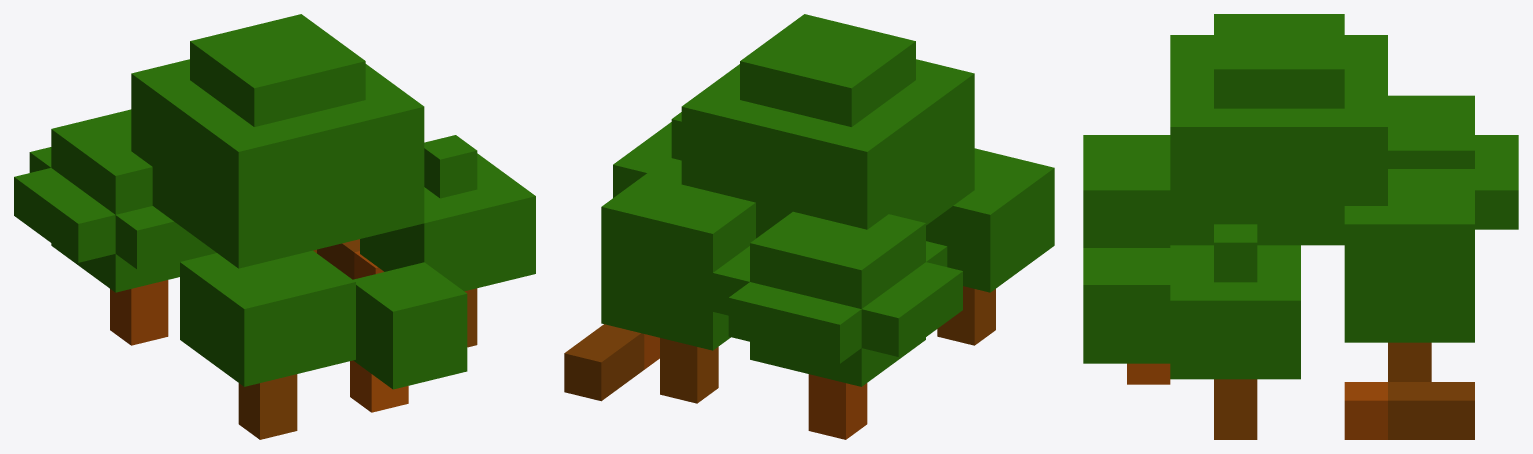
The model's file is Baum-5.obj.
3 views of the same model, side by side, from view 1: azimuth 30°, elevation 25°; view 2: azimuth 150°, elevation 25°; view 3: azimuth 270°, elevation 25° (orthographic).
Size of the model in its own units: 1 by 0.8 by 1.
Materials: 1 (1 with a texture image).
